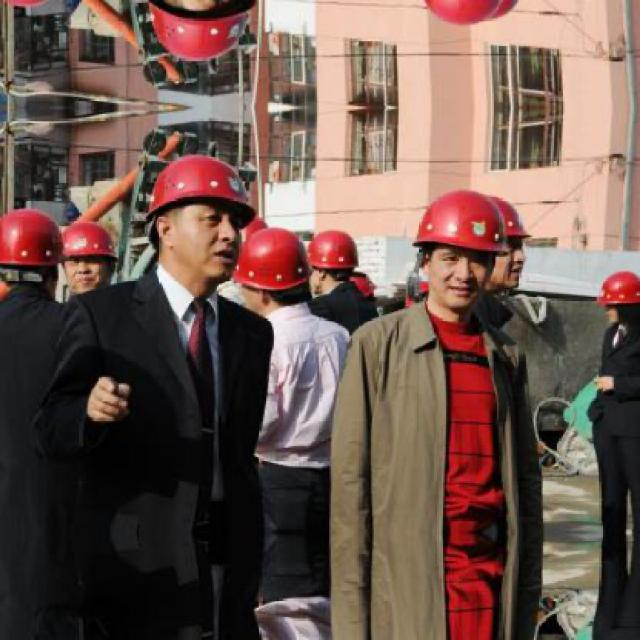helmet: (150, 152, 258, 286), (412, 185, 503, 308), (149, 0, 260, 62), (234, 226, 309, 317), (2, 208, 68, 303), (478, 192, 534, 291), (57, 217, 118, 295), (308, 223, 360, 294), (597, 263, 638, 339), (412, 0, 505, 29), (477, 0, 534, 22)
